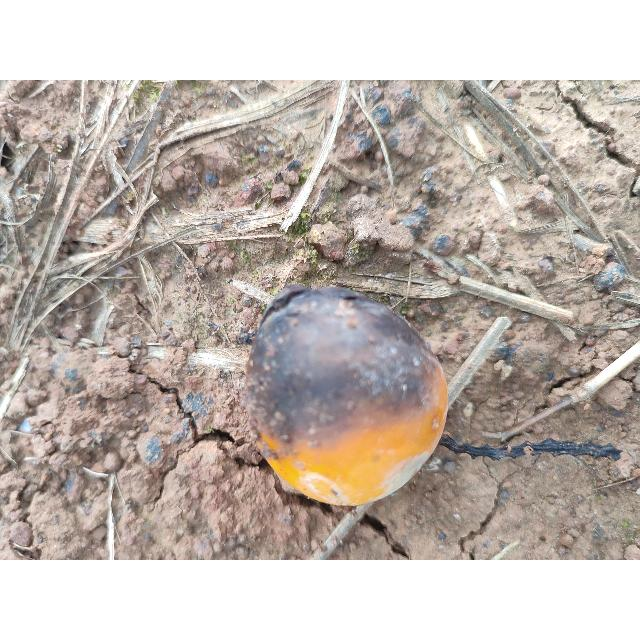damaged: (245, 285, 450, 510)
